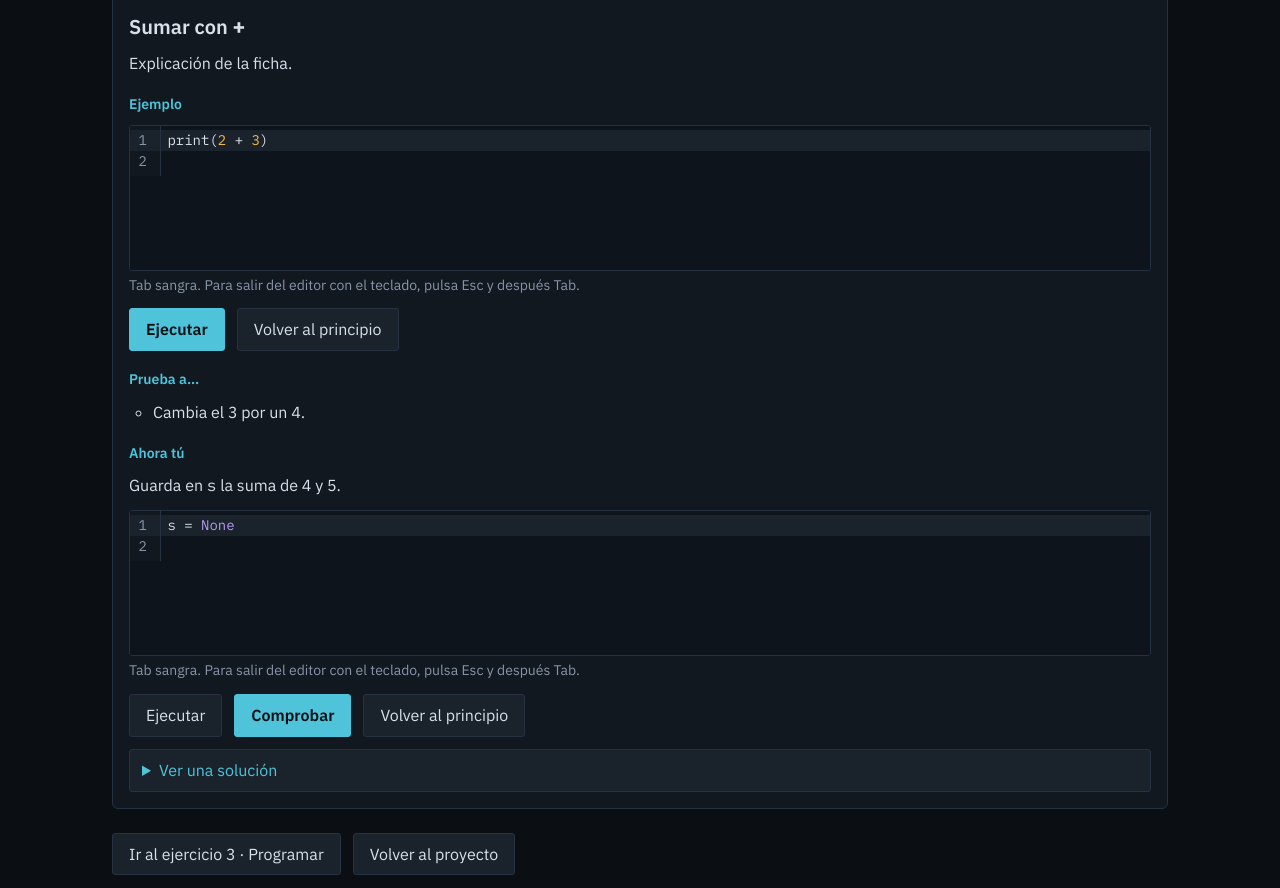
Test case: Pantalla del calentamiento › una comprobación fallida enseña su mensaje
(page scrolled)
Click the button "Comprobar".
click(293, 715)  # box 234,694 -> 351,737
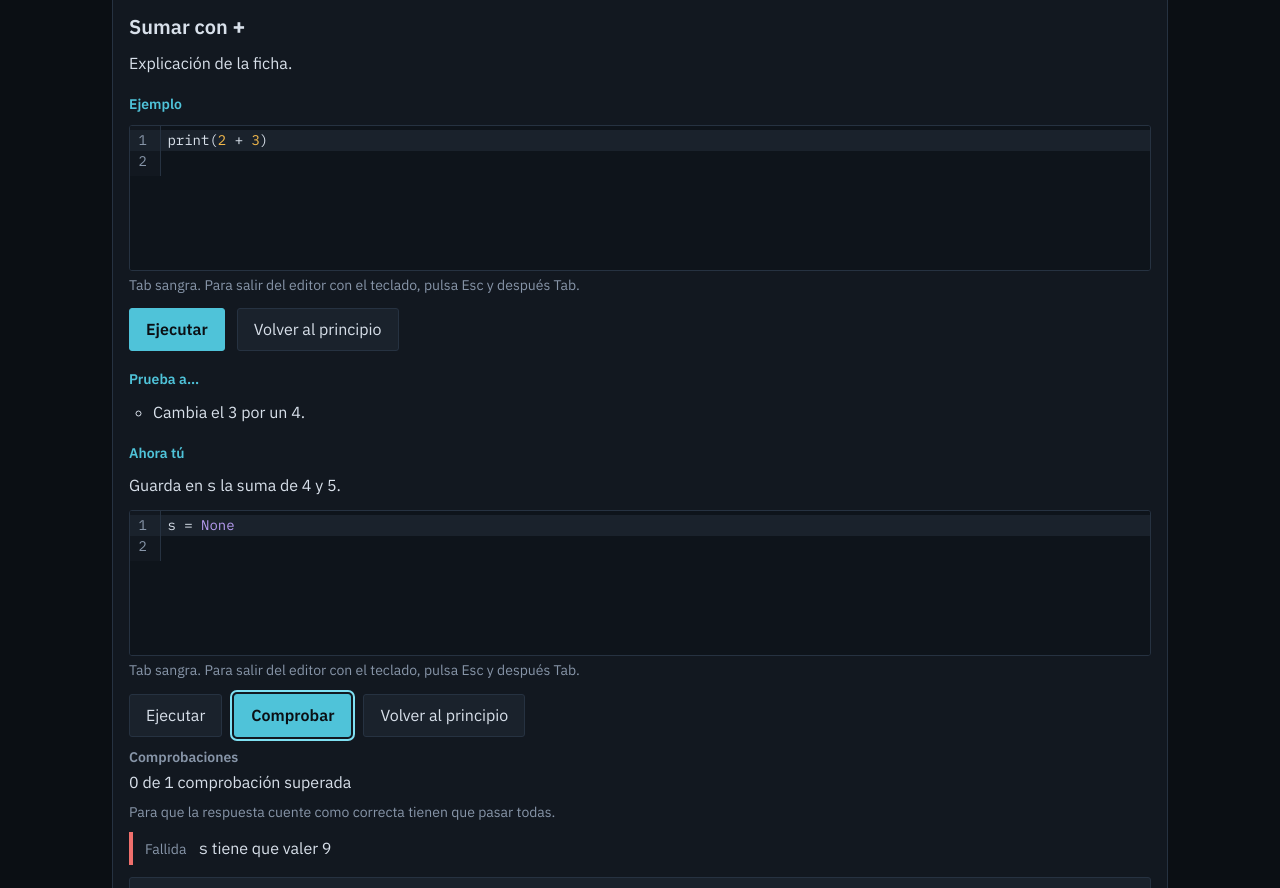
Check: the text "tiene que valer 9" is shown, box 208,838 -> 331,858
